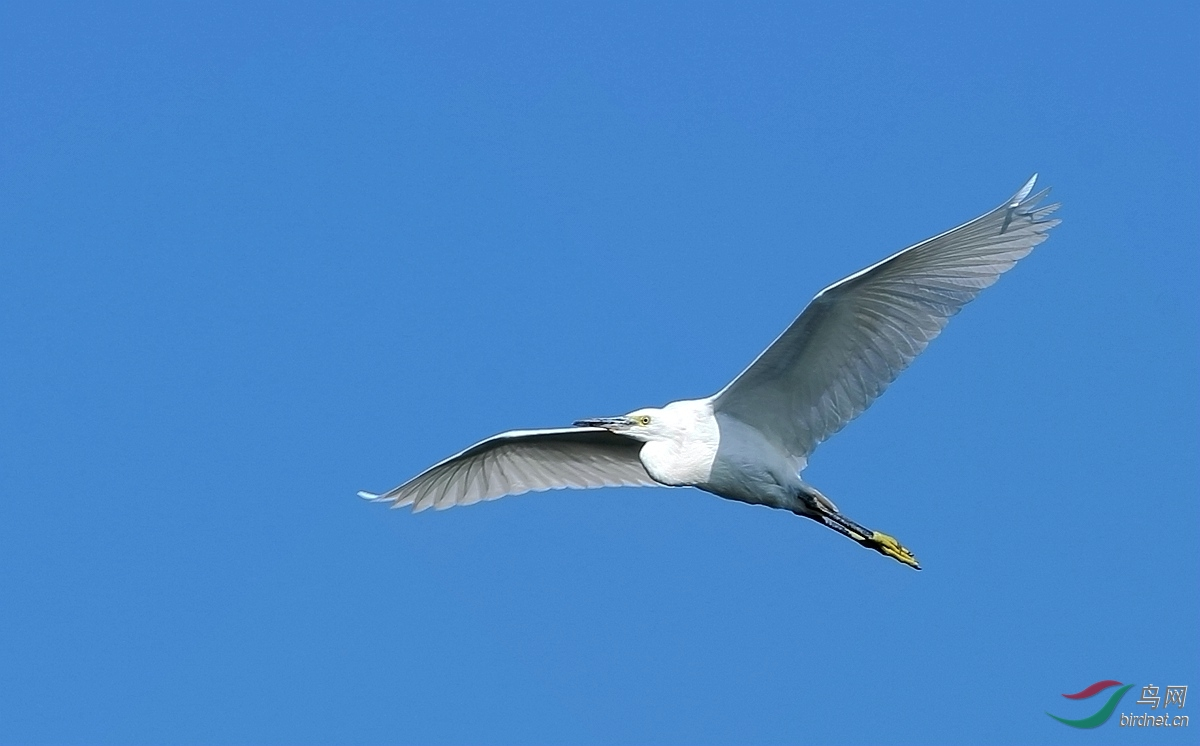bird: (350, 170, 1067, 568)
